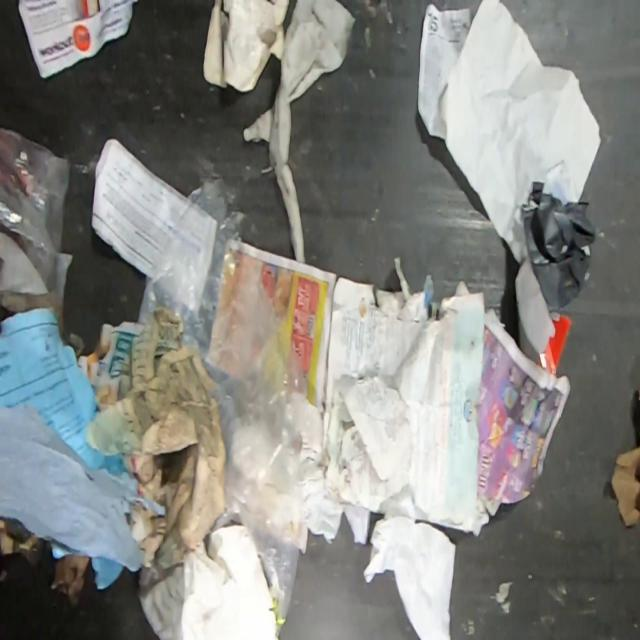soft_plastic: (137, 176, 313, 640), (0, 403, 167, 574), (0, 128, 72, 296), (522, 181, 598, 315)
